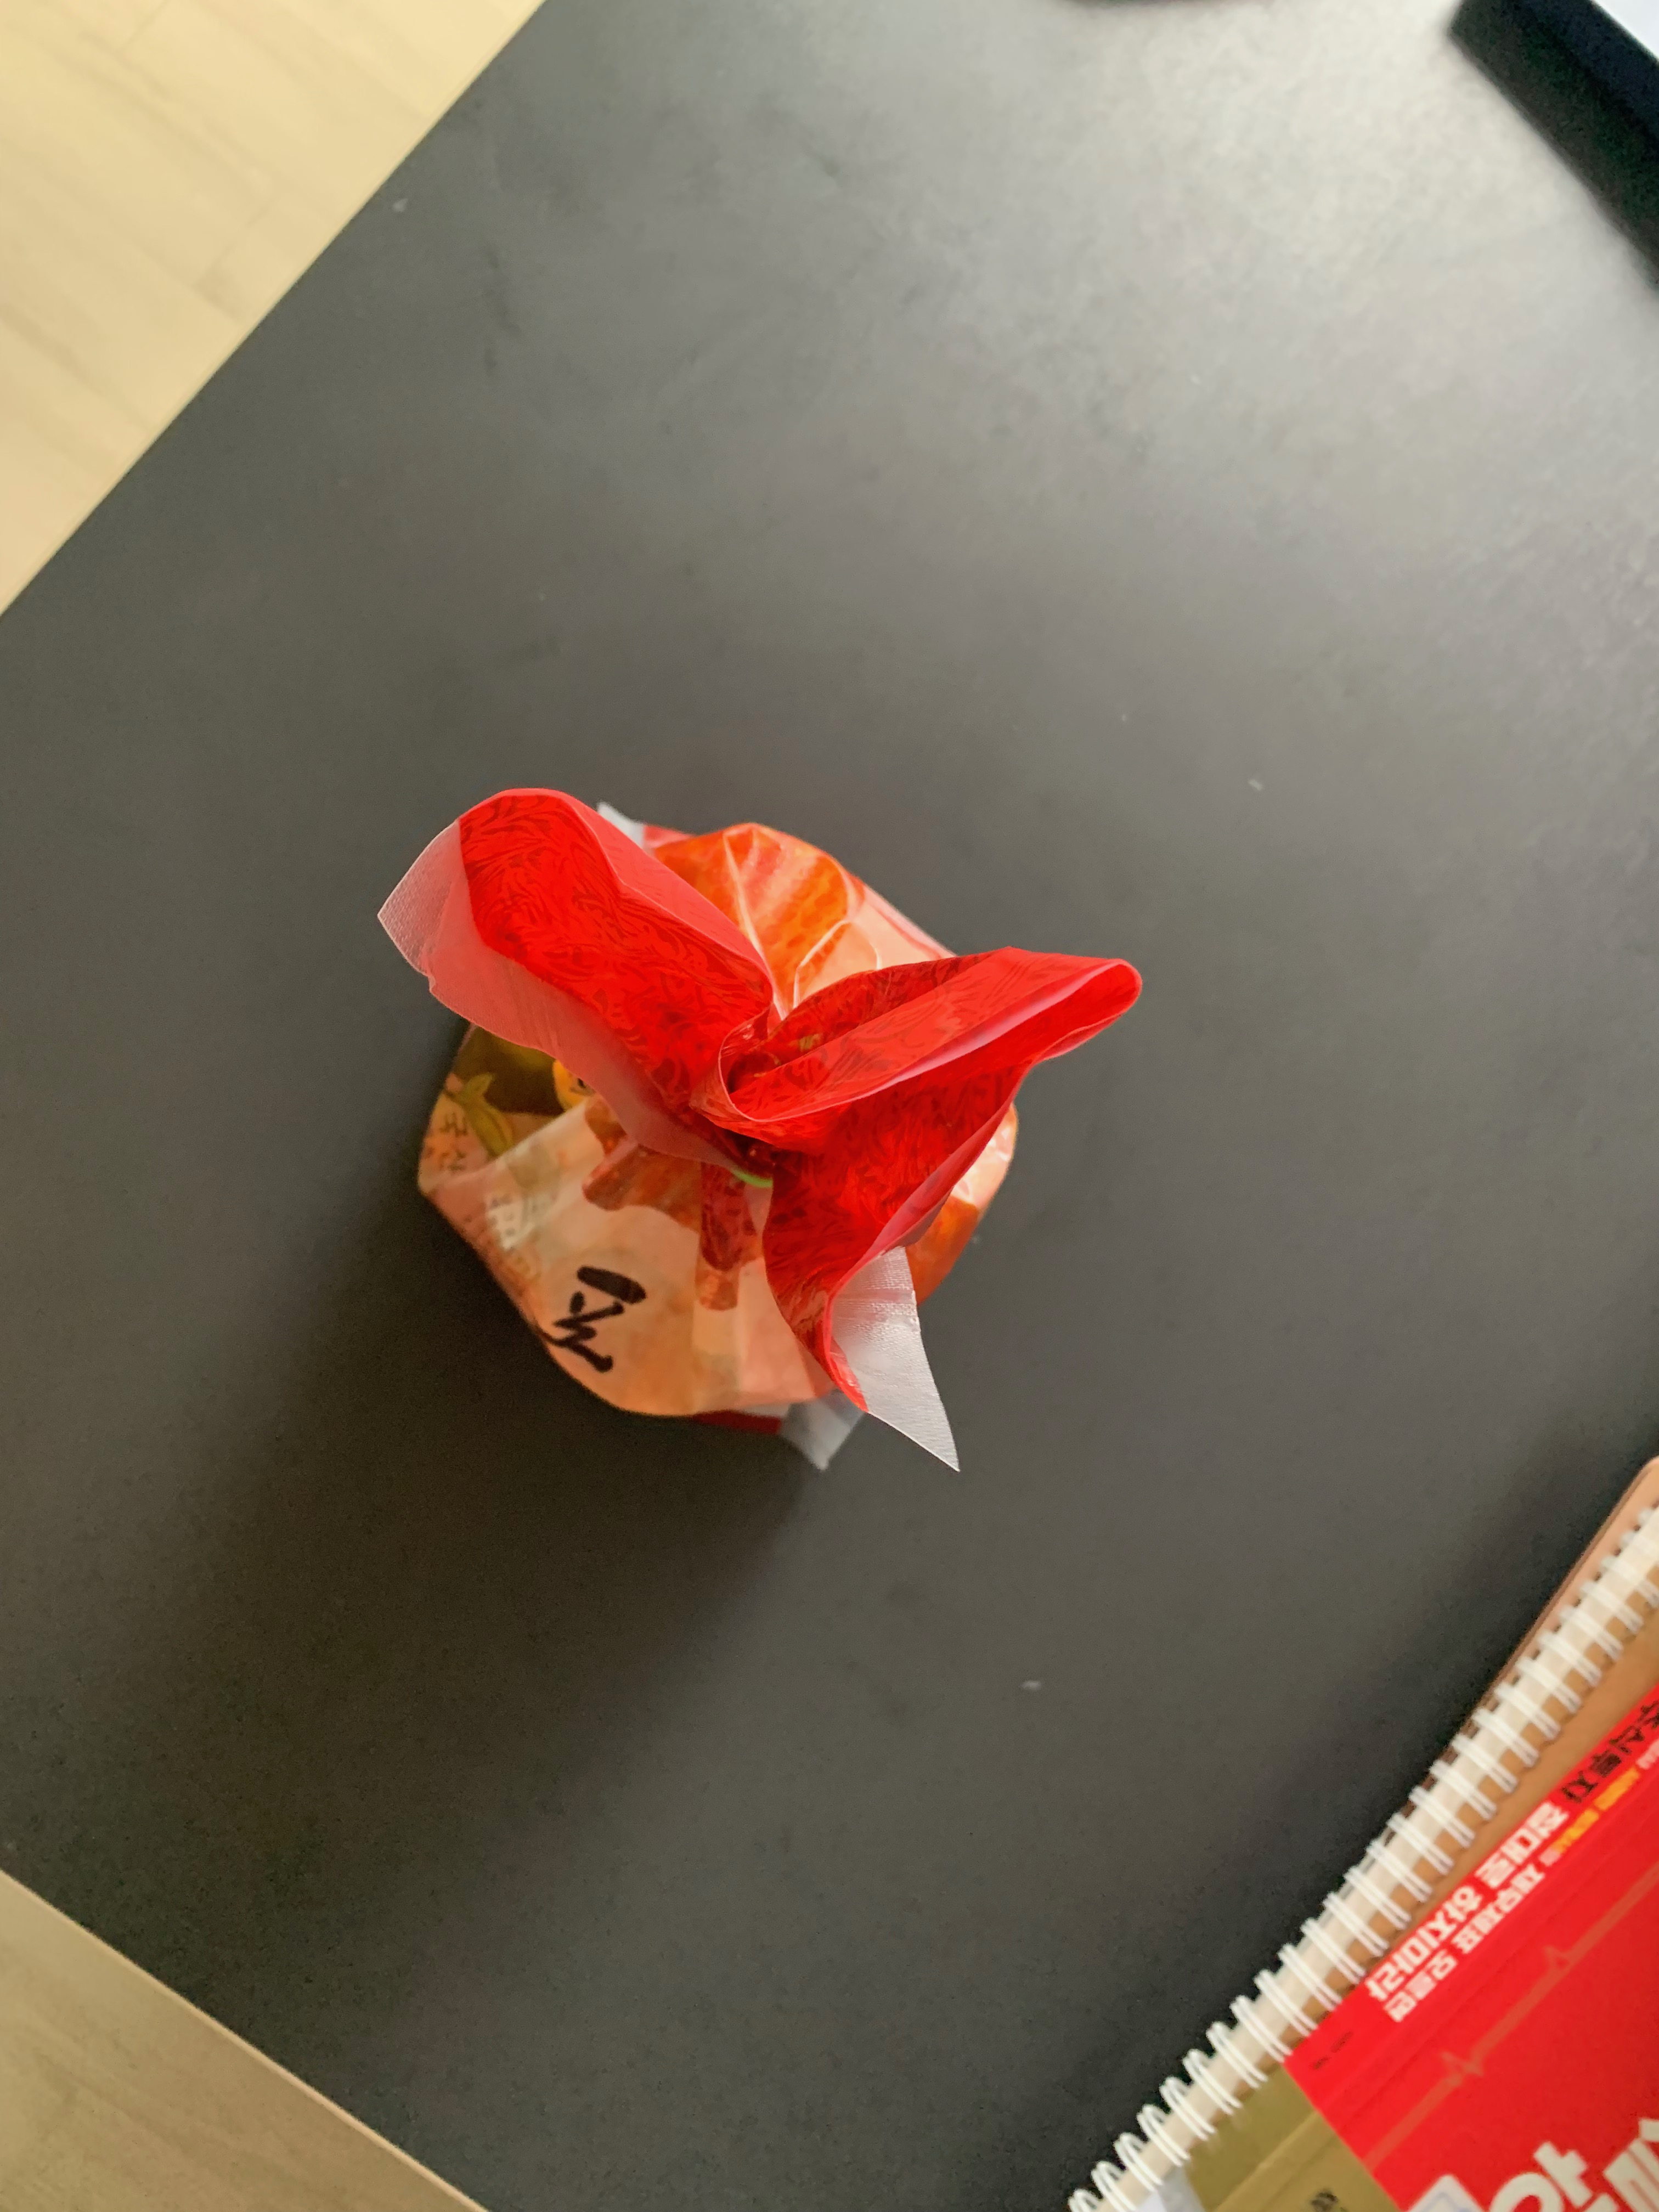kimchi: (404, 792, 1148, 1420)
